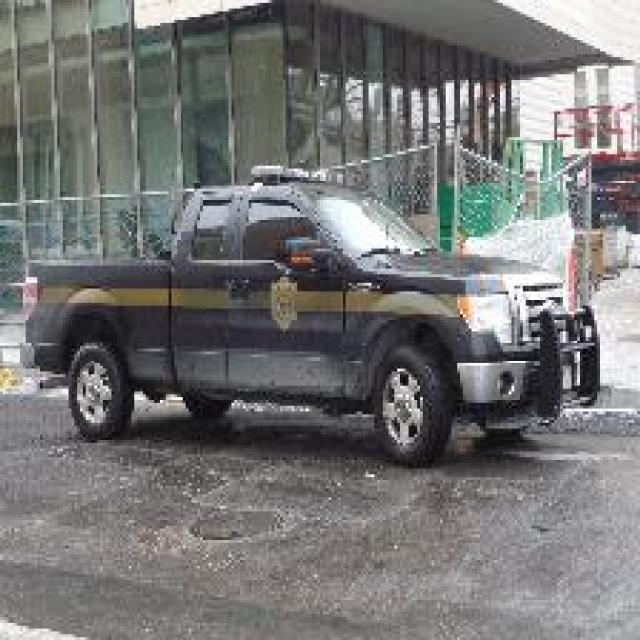Pickup: (17, 163, 600, 466)
